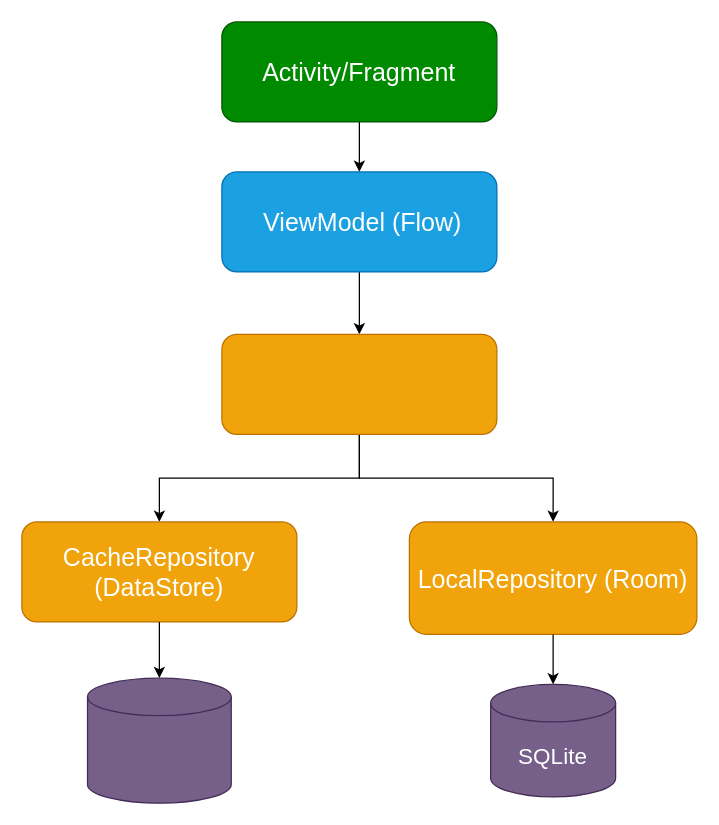
Image size: 719x825. Some labels were removed from this diagram. The box of each missing label's shape, as (x1, y1, x2, y2) in pixels:
Interactor: (221, 333, 497, 434)
Preferences: (86, 677, 231, 803)
